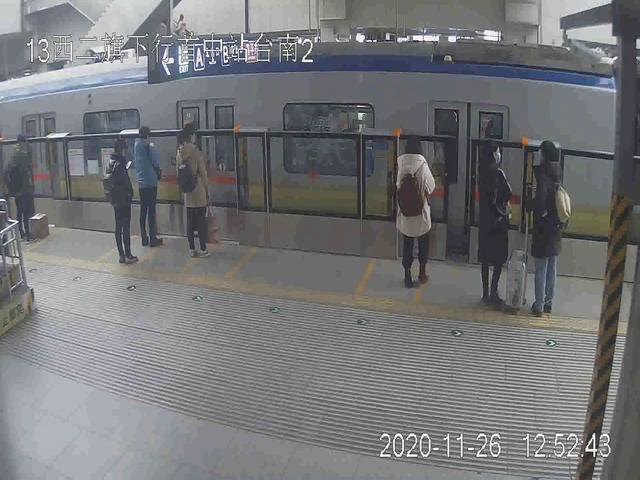person: (527, 137, 576, 318), (175, 122, 224, 258), (395, 139, 434, 287), (478, 141, 513, 305), (99, 139, 143, 264), (6, 135, 50, 244), (132, 123, 166, 247)
